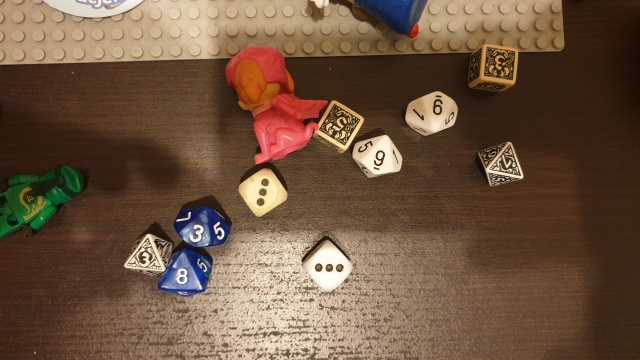d10-3: (170, 204, 230, 246)
d10-8: (156, 252, 214, 297)
d10-9: (401, 88, 462, 138), (352, 133, 405, 182)
d6-3: (228, 166, 297, 219), (296, 234, 355, 292)
d6p-3: (463, 41, 518, 92)
d6p-5: (313, 100, 363, 152)
d8p-3: (117, 231, 175, 278)
d8p-7: (473, 140, 528, 187)
